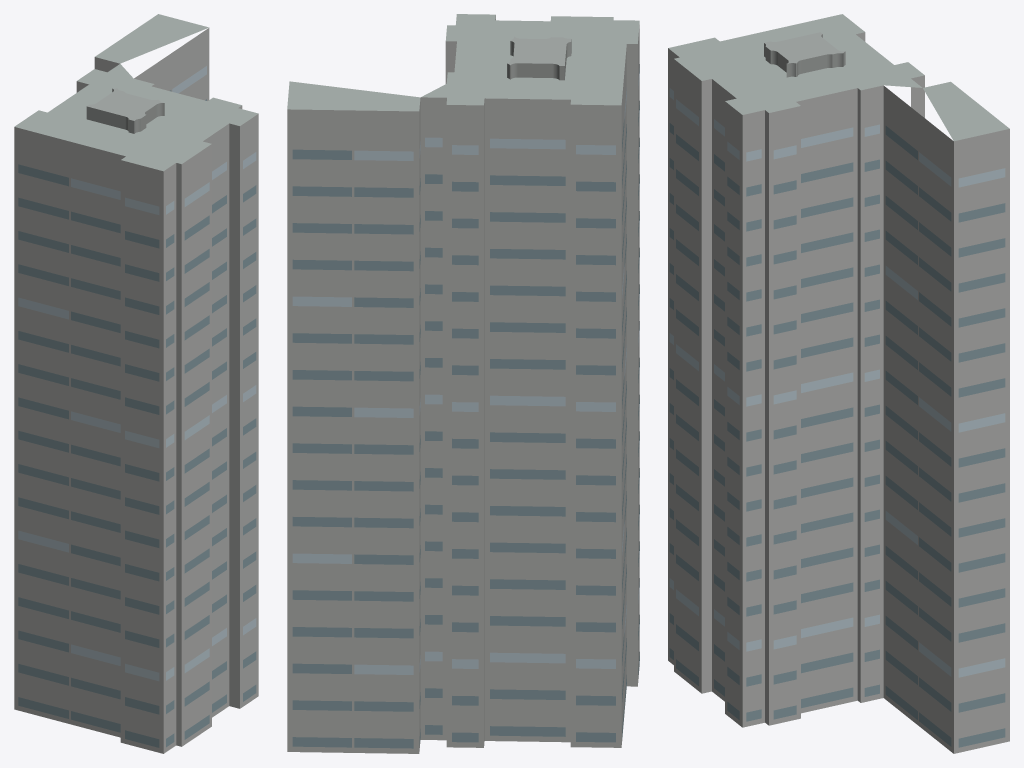
File: fallback-onebailey-120.glb
The picture shows the model from 3 angles, left to right: view 1: azimuth 30°, elevation 25°; view 2: azimuth 150°, elevation 25°; view 3: azimuth 270°, elevation 25°; orthographic projection. The views are drawn at different scales.
Parts seen in each view (by area): view 1: fallback-onebailey-120; view 2: fallback-onebailey-120; view 3: fallback-onebailey-120.
Boxes of the visible parts, box(x1,y1,x2,y2) form: fallback-onebailey-120: box(14, 14, 258, 753); fallback-onebailey-120: box(287, 14, 639, 753); fallback-onebailey-120: box(668, 14, 1009, 753).
Size of the model in its own units: 47.97 by 110 by 54.4.
